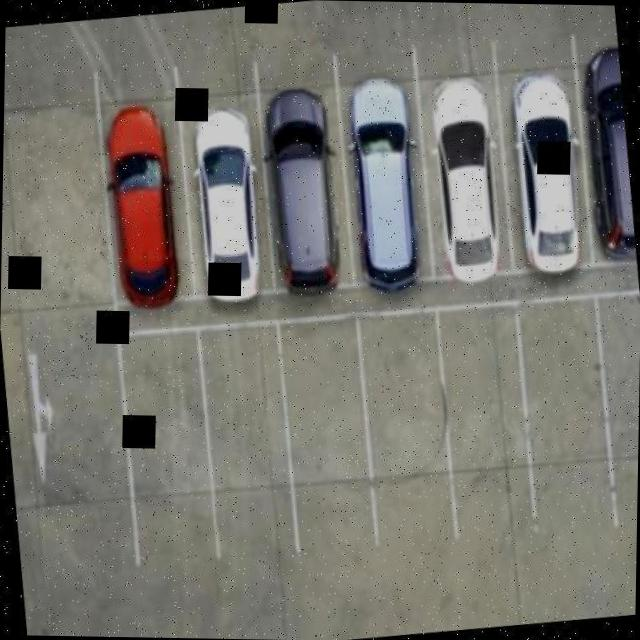car: (338, 77, 428, 285), (98, 102, 188, 310), (421, 73, 504, 282), (262, 83, 344, 292), (507, 74, 587, 278), (188, 106, 263, 306), (573, 40, 640, 258)
